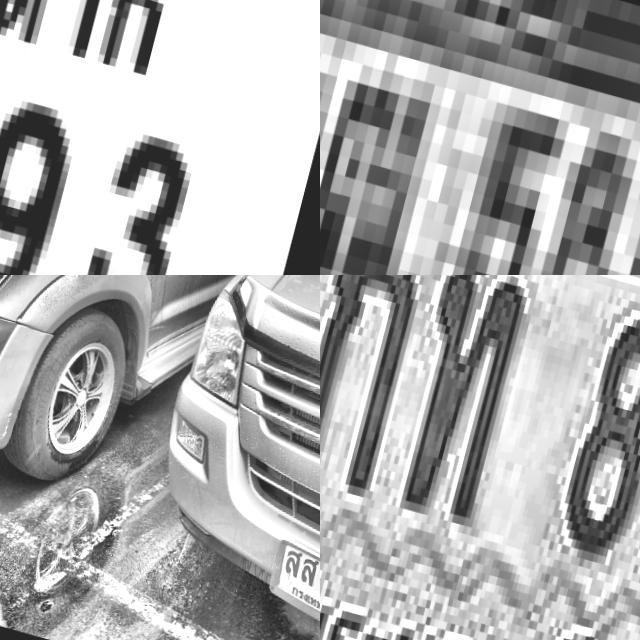license-plate: (320, 275, 640, 640), (0, 0, 320, 275), (320, 0, 640, 275), (257, 529, 320, 640)
